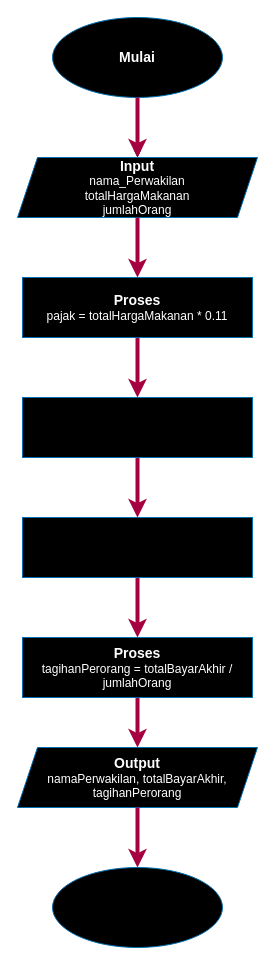
This 275x965 diagram has some shape labels left out. Here are the shapes that lost their labels. From the top down, the box of each, then its label:
(22, 396, 252, 458): Proses biayaLayanan = totalHargaMakanan * 0.05
(22, 516, 252, 578): Proses totalBayarAkhir = totalHargaMakanan + pajak + biayaLayanan
(52, 866, 222, 948): Selesai
